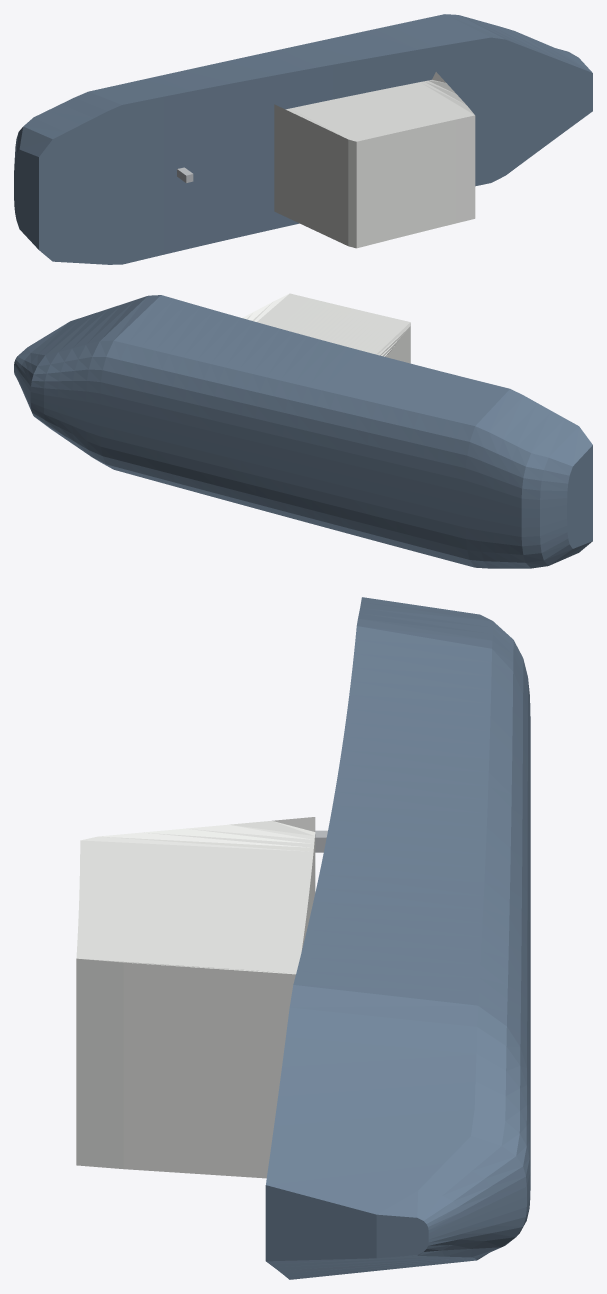
Rendered from loft-tug-highside.glb.
3 views of the same model, one above another, from view 1: azimuth 30°, elevation 25°; view 2: azimuth 150°, elevation 25°; view 3: azimuth 270°, elevation 25° (orthographic). The views are drawn at different scales.
Parts seen in each view (by area): view 1: loft-tug-highside; view 2: loft-tug-highside; view 3: loft-tug-highside.
Part boxes in pixels (box(x1,y1,x2,y2)): loft-tug-highside: box(14, 14, 592, 264); loft-tug-highside: box(14, 293, 592, 568); loft-tug-highside: box(76, 597, 530, 1279).
Bounding box in the file's own units: 1.8 × 0.5056 × 0.6514.
